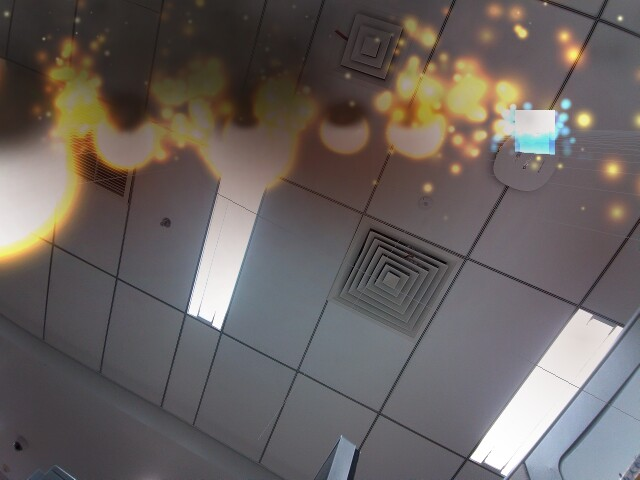fire: (0, 99, 81, 267), (206, 101, 299, 190), (94, 103, 160, 173), (386, 104, 449, 159), (318, 109, 373, 158)
